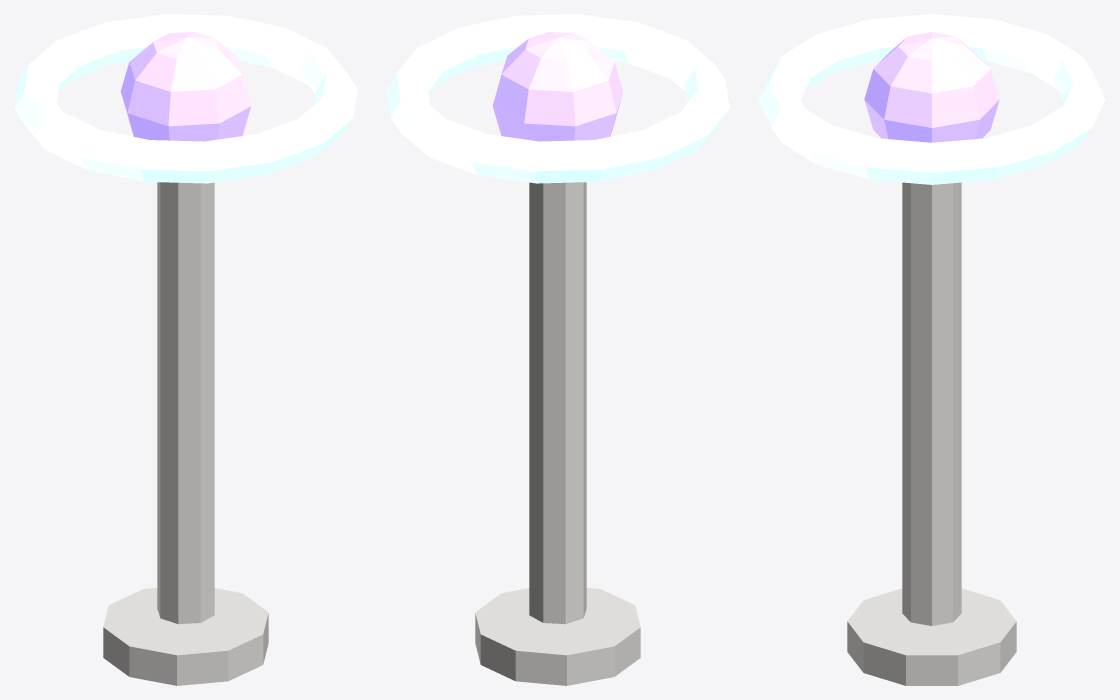
File: tool_aurora.glb
3 renders of one model, left to right at view 1: azimuth 30°, elevation 25°; view 2: azimuth 150°, elevation 25°; view 3: azimuth 270°, elevation 25°, orthographic.
Visible parts, largest first — view 1: ring, pole, foot, gem; view 2: ring, pole, foot, gem; view 3: ring, pole, foot, gem.
Part boxes in pixels (bbox=[...]): ring: bbox=[14, 14, 357, 183]; pole: bbox=[157, 182, 214, 624]; foot: bbox=[103, 587, 268, 685]; gem: bbox=[120, 32, 251, 141]; ring: bbox=[386, 14, 729, 183]; pole: bbox=[529, 182, 586, 624]; foot: bbox=[475, 587, 640, 685]; gem: bbox=[492, 32, 623, 141]; ring: bbox=[758, 14, 1105, 184]; pole: bbox=[902, 182, 961, 625]; foot: bbox=[847, 588, 1016, 685]; gem: bbox=[864, 32, 999, 142].
Size of the model in its own units: 0.41 by 0.8 by 0.41.
